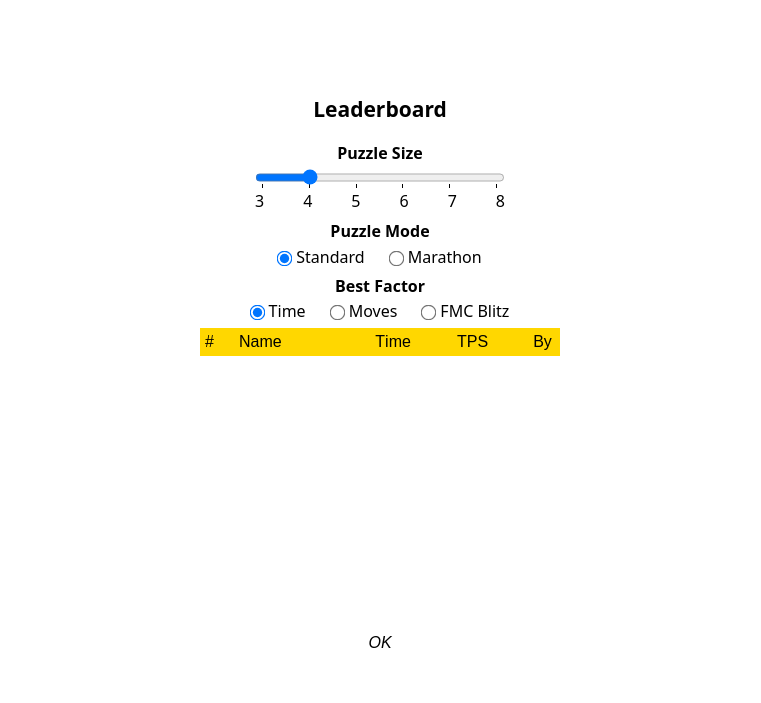
Test case: LeaderBoard › opening/closing the games table › opens the fmc blitz games table with the real record id
Expected: the element with class "leaderboard" is shown, [180,66,580,686]
Click the text "FMC Blitz" at (475, 311), box [440,299,509,323]
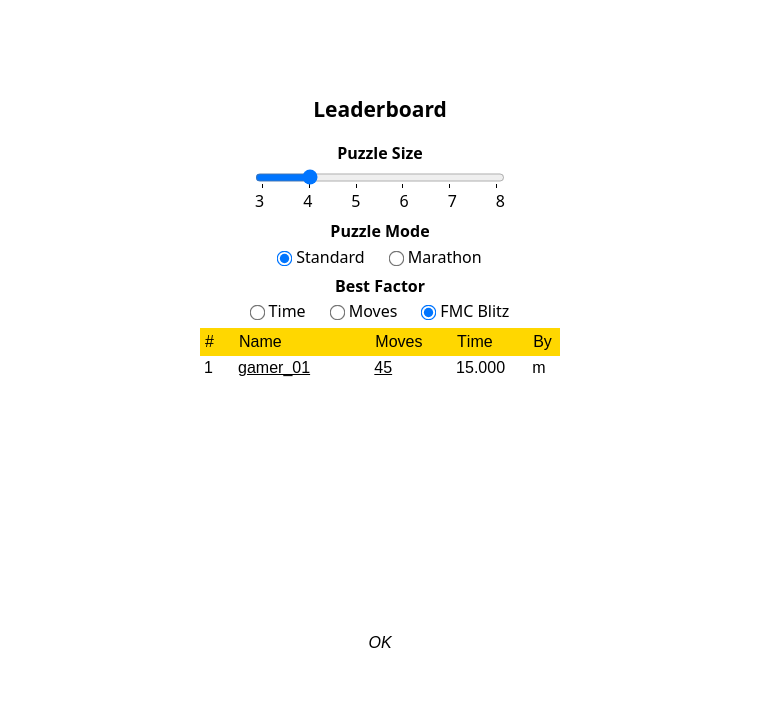
Expected: the element with class "leaderboard" is shown, [180,66,580,686]
Click the cell with class "link-item" showing "45" at (383, 367), box [370,356,452,380]
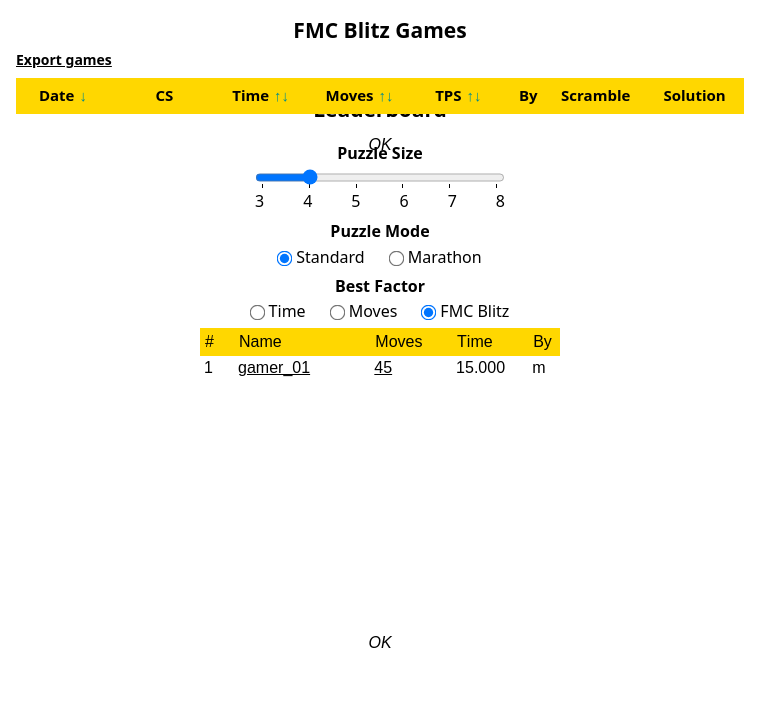
Expected: the element with class "games-table" is shown, [16,16,744,161]
